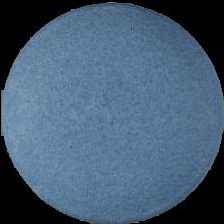21695-213: (0, 0, 224, 224)
